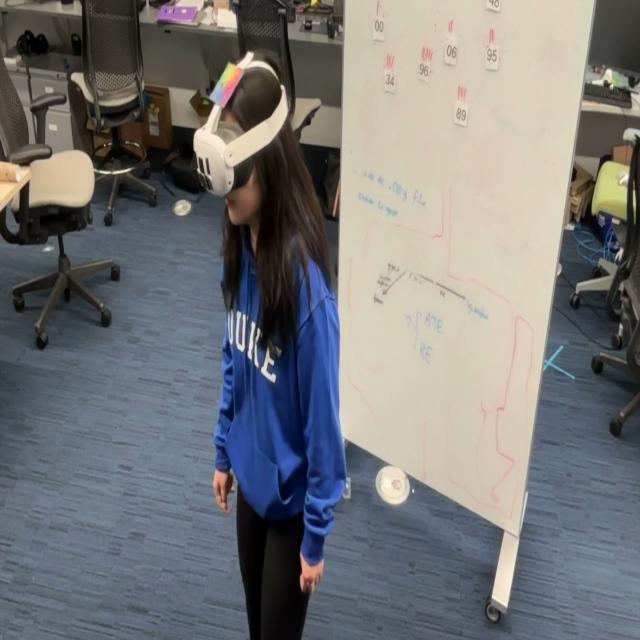Headset: (192, 59, 288, 198)
Marker: (205, 55, 241, 116)
